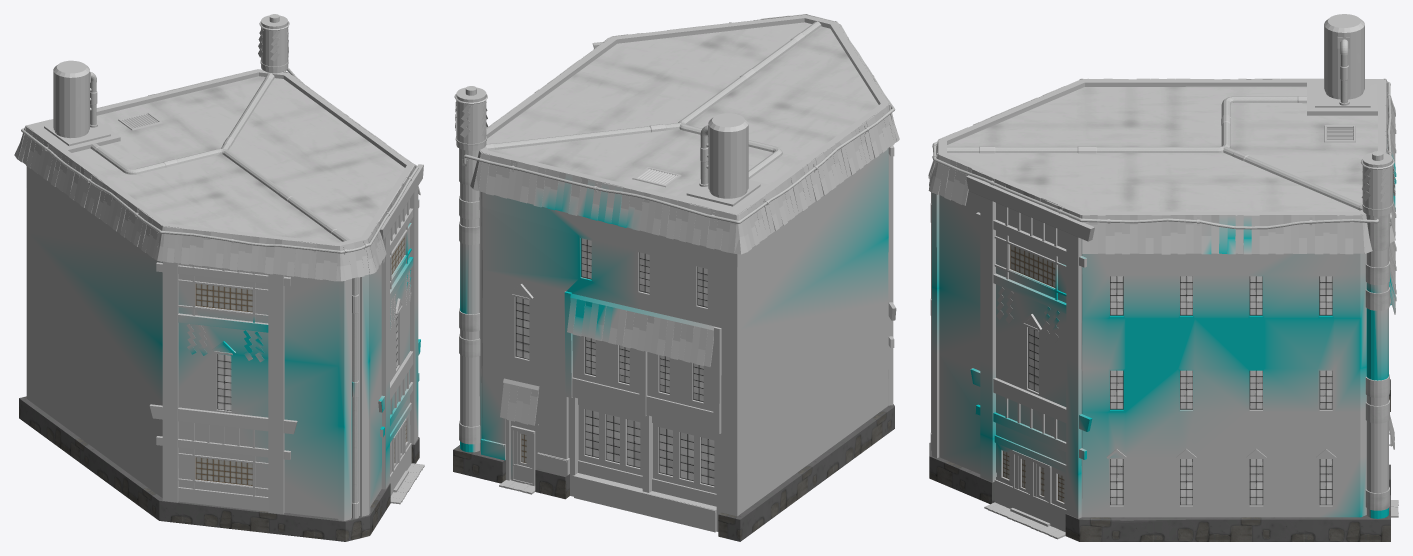
Rendered from SM_ENV_KNVLLG_AreaB_Building_B.mo.fbx.
3 views of the same model, side by side, from view 1: azimuth 30°, elevation 25°; view 2: azimuth 150°, elevation 25°; view 3: azimuth 270°, elevation 25° (orthographic). The views are drawn at different scales.
Visible parts, largest first — view 1: SM_ENV_KNVLLG_AreaB_Building_B.mo; view 2: SM_ENV_KNVLLG_AreaB_Building_B.mo; view 3: SM_ENV_KNVLLG_AreaB_Building_B.mo.
Boxes of the visible parts, left/top/right/bottom form: SM_ENV_KNVLLG_AreaB_Building_B.mo: left=14, top=14, right=424, bottom=541; SM_ENV_KNVLLG_AreaB_Building_B.mo: left=453, top=14, right=899, bottom=541; SM_ENV_KNVLLG_AreaB_Building_B.mo: left=928, top=14, right=1398, bottom=541.
Bounding box in the file's own units: 18.64 × 23.27 × 24.94.
